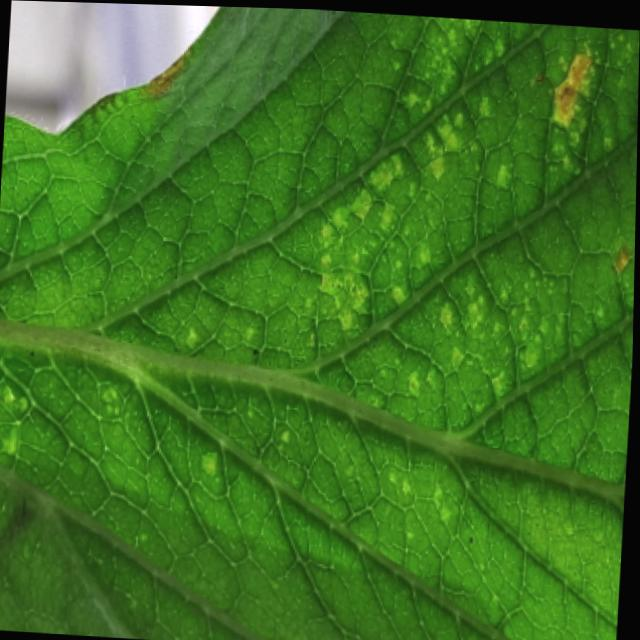Angular Leafspot: (0, 12, 640, 593)
